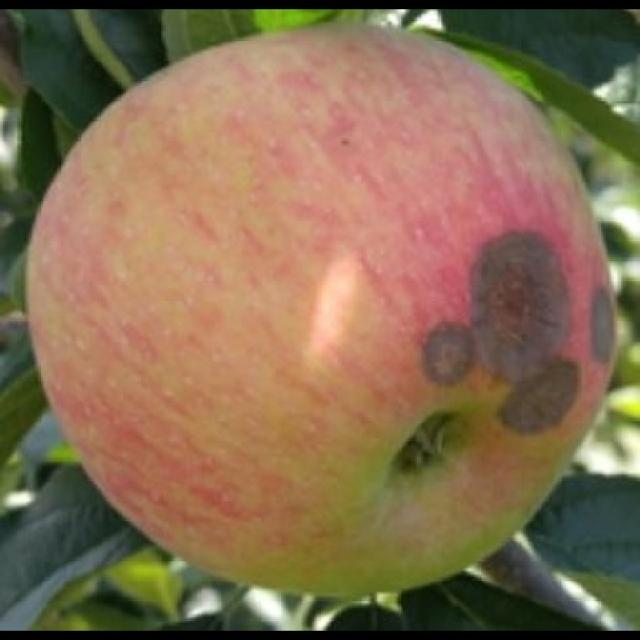Rotten Apple: (20, 18, 623, 604)
